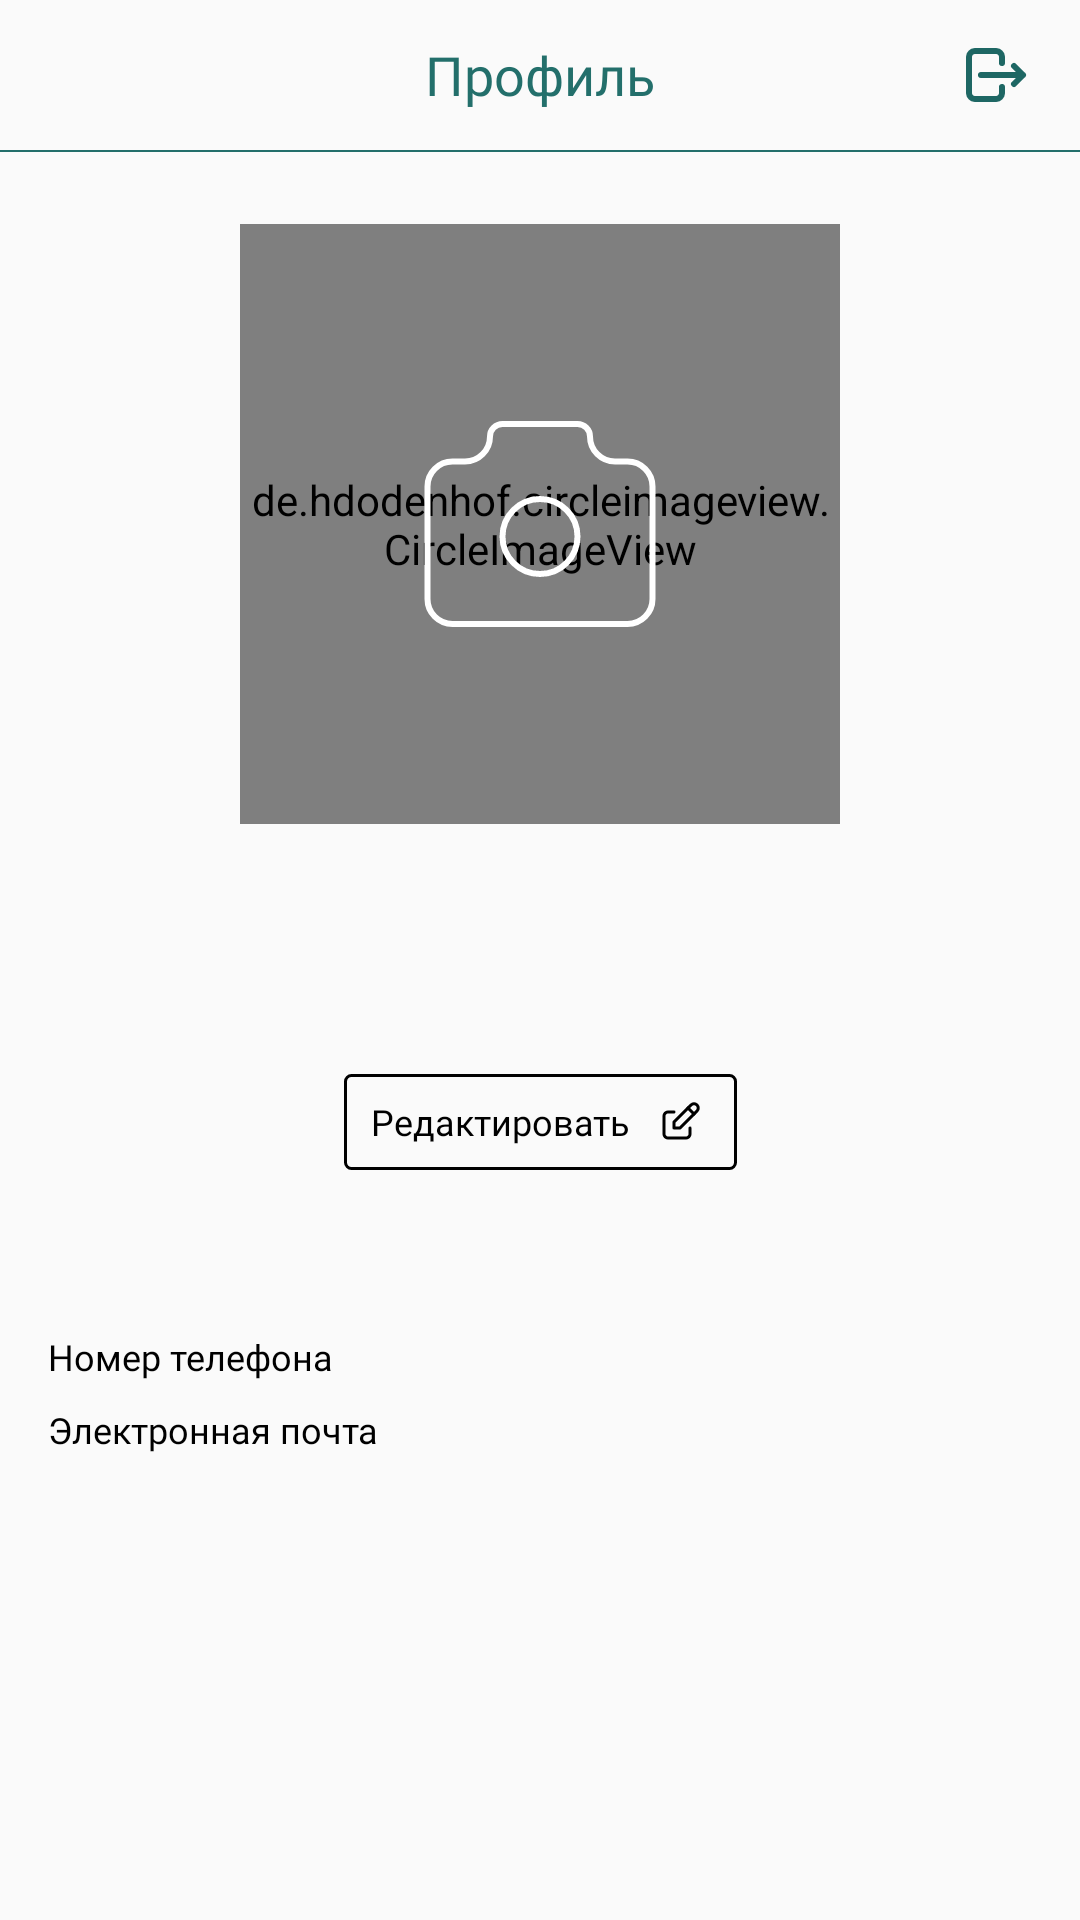

Where to tap for icons on this 1080×1920 app screen, as point (x, y):
edit: point (681, 1121)
left account: point (996, 75)
photo: point (540, 524)
